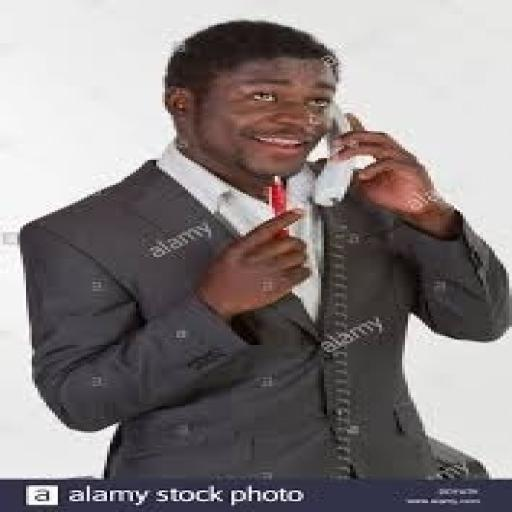calling: (17, 18, 509, 481)
